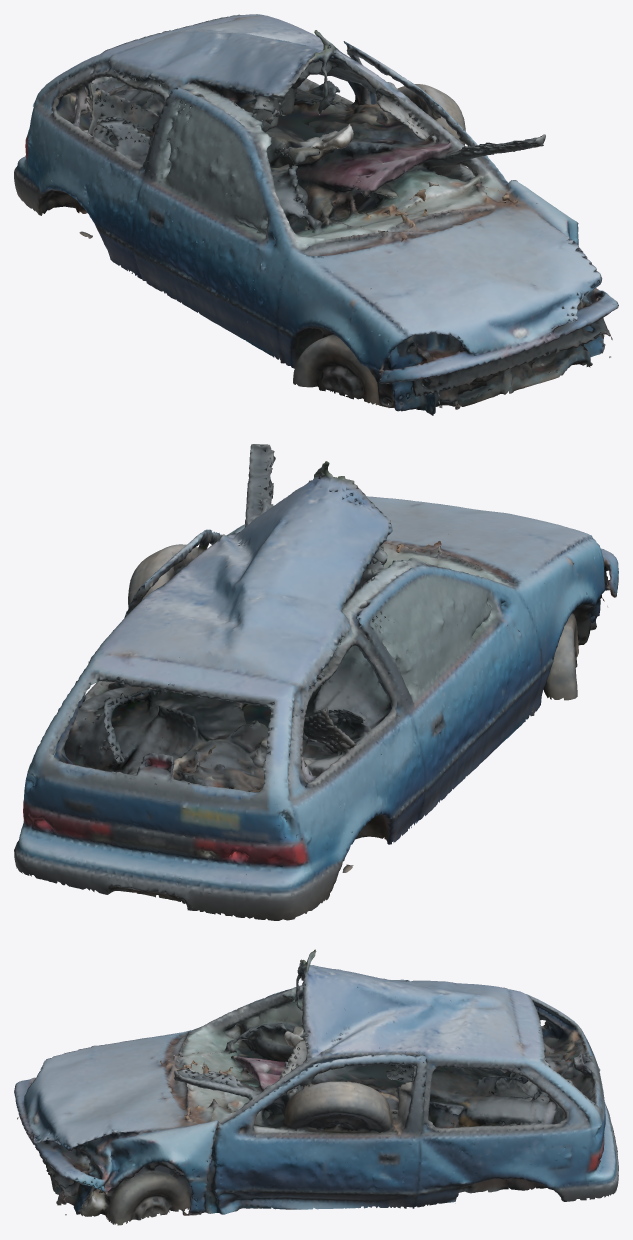
File: destroyed-car-07.glb
3 renders of one model, top to bottom at view 1: azimuth 30°, elevation 25°; view 2: azimuth 150°, elevation 25°; view 3: azimuth 270°, elevation 25°, orthographic. The views are drawn at different scales.
Parts seen in each view (by area): view 1: destroyed-car; view 2: destroyed-car; view 3: destroyed-car.
Part boxes in pixels (<box>): destroyed-car: <box>14,14,618,415</box>; destroyed-car: <box>14,444,618,920</box>; destroyed-car: <box>14,949,618,1225</box>.
Size of the model in its own units: 8.03 by 6.03 by 15.87.
